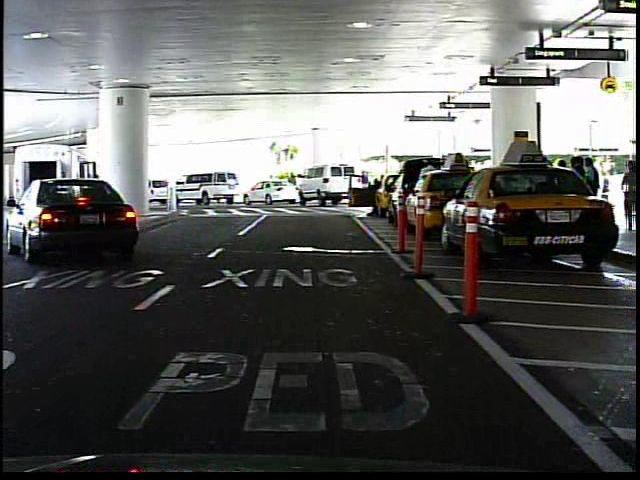person: (618, 160, 639, 230), (362, 170, 386, 223), (600, 165, 615, 201), (288, 169, 300, 201), (268, 173, 277, 180)
